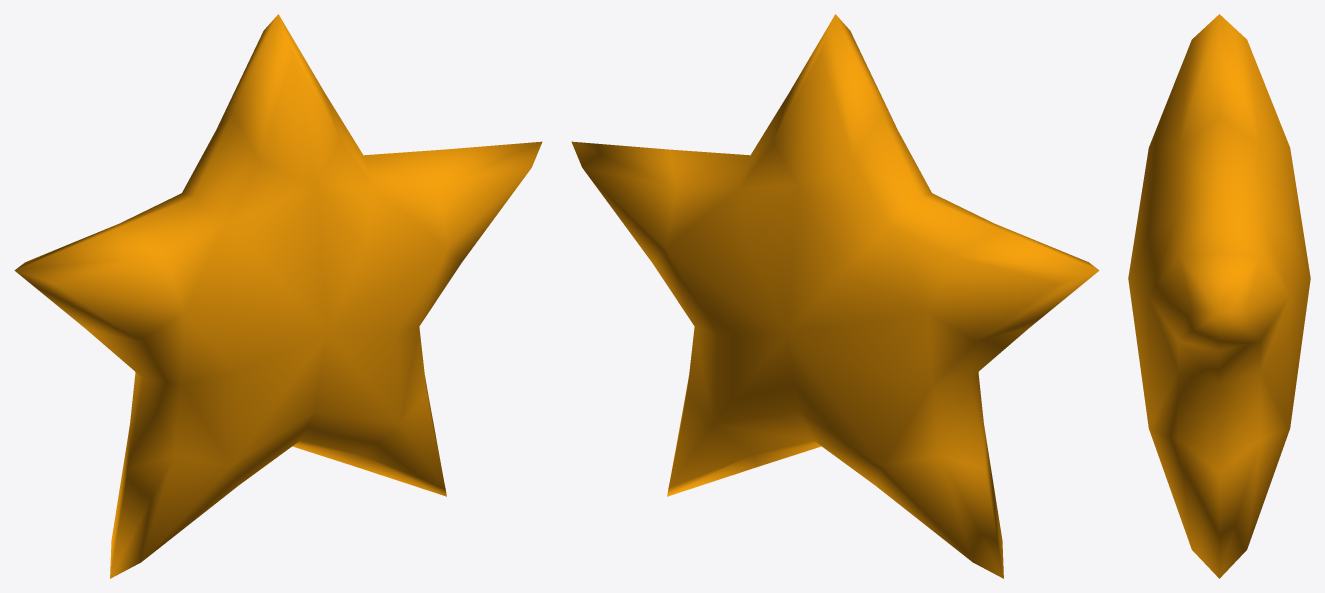
The model's file is Star_TypeB.FBX.
3 views of the same model, side by side, from view 1: azimuth 30°, elevation 25°; view 2: azimuth 150°, elevation 25°; view 3: azimuth 270°, elevation 25° (orthographic). The views are drawn at different scales.
Parts seen in each view (by area): view 1: Star_TypeB; view 2: Star_TypeB; view 3: Star_TypeB.
Part boxes in pixels (x1=…): Star_TypeB: x1=14, y1=14, x2=542, y2=578; Star_TypeB: x1=571, y1=14, x2=1099, y2=578; Star_TypeB: x1=1128, y1=14, x2=1310, y2=578.
Bounding box in the file's own units: 24.14 × 22.87 × 7.75.
